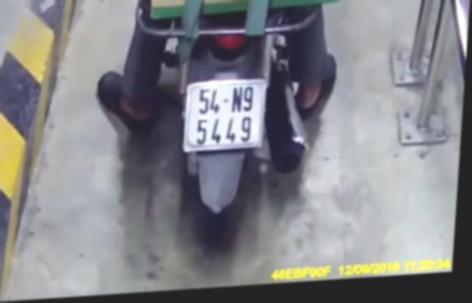License_Plate: (173, 70, 275, 159)
